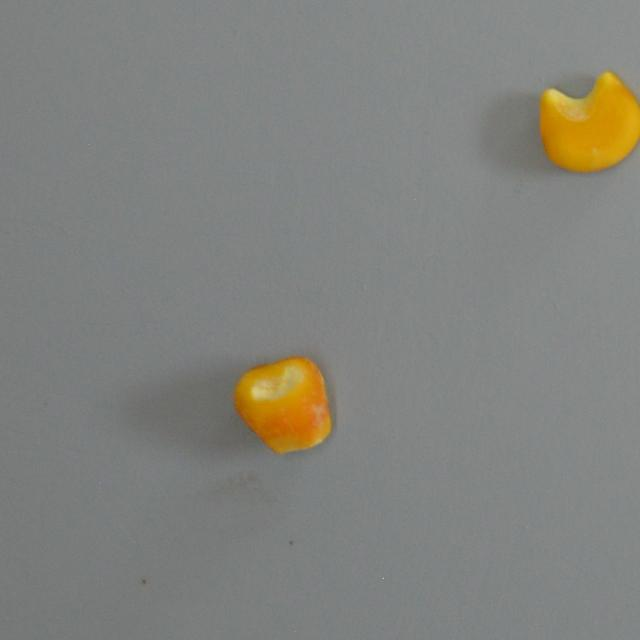dañado: (231, 352, 344, 461), (532, 64, 640, 172)
